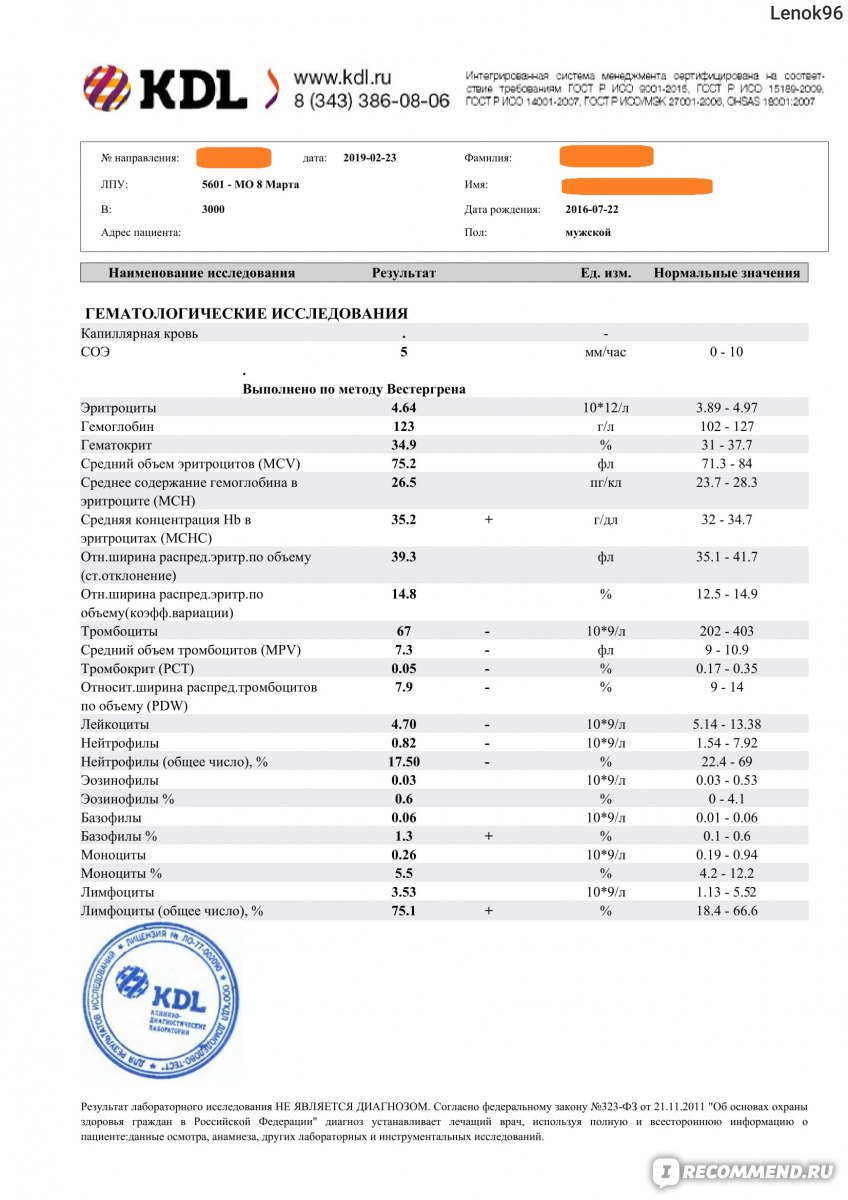column: (80, 400, 317, 918), (692, 400, 761, 918), (583, 400, 629, 918), (388, 400, 420, 918), (80, 327, 198, 358), (107, 267, 295, 279), (653, 267, 800, 279), (584, 327, 626, 358), (709, 327, 743, 358), (371, 267, 436, 279), (580, 267, 631, 279), (400, 327, 407, 358)
